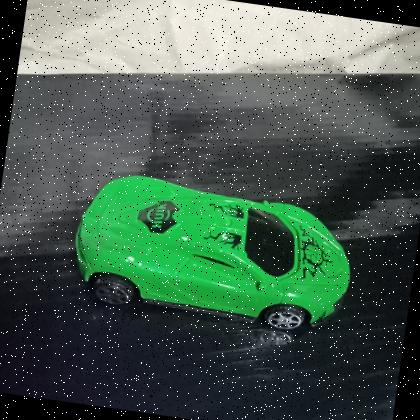Car: (61, 160, 366, 346)
